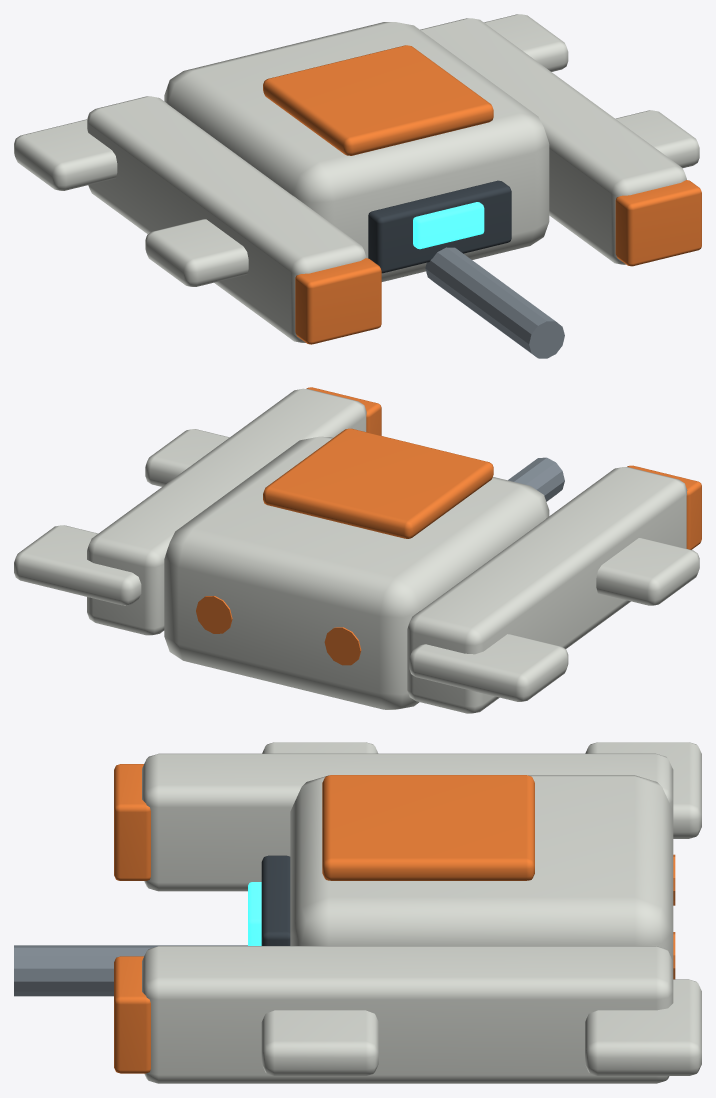
The model's file is VXDR_INTERCEPT_v001_DRONE.fbx.
3 renders of one model, top to bottom at view 1: azimuth 30°, elevation 25°; view 2: azimuth 150°, elevation 25°; view 3: azimuth 270°, elevation 25°, orthographic. The views are drawn at different scales.
Visible parts, largest first — view 1: Armored sensor shell, Interceptor pylon, Interceptor pylon.001, Top identification, Sensor recess, Interceptor barrel, Pylon nose.001, Pylon nose, Foldable stabilizer.001, Foldable stabilizer, Foldable stabilizer.003, Optical sensor (+1 smaller); view 2: Armored sensor shell, Interceptor pylon, Interceptor pylon.001, Top identification, Foldable stabilizer.001, Foldable stabilizer.003, Foldable stabilizer, Foldable stabilizer.002, Interceptor barrel, Pylon nose, Dock contact, Dock contact.001 (+1 smaller); view 3: Interceptor pylon.001, Armored sensor shell, Interceptor pylon, Top identification, Foldable stabilizer.003, Foldable stabilizer.002, Interceptor barrel, Pylon nose.001, Pylon nose, Foldable stabilizer.001, Sensor recess, Foldable stabilizer (+1 smaller).
Part boxes in pixels (<box>): Armored sensor shell: <box>164,22,549,281</box>; Interceptor pylon: <box>87,96,366,342</box>; Interceptor pylon.001: <box>420,18,686,264</box>; Top identification: <box>263,45,493,155</box>; Sensor recess: <box>368,180,511,273</box>; Interceptor barrel: <box>425,247,564,358</box>; Pylon nose.001: <box>615,180,701,266</box>; Pylon nose: <box>295,258,381,344</box>; Foldable stabilizer.001: <box>14,119,117,190</box>; Foldable stabilizer: <box>145,219,248,286</box>; Foldable stabilizer.003: <box>484,14,568,71</box>; Optical sensor: <box>413,202,484,249</box>; Armored sensor shell: <box>164,436,549,709</box>; Interceptor pylon: <box>407,467,687,713</box>; Interceptor pylon.001: <box>87,388,366,635</box>; Top identification: <box>263,428,493,538</box>; Foldable stabilizer.001: <box>409,634,568,701</box>; Foldable stabilizer.003: <box>14,525,141,605</box>; Foldable stabilizer: <box>596,538,699,605</box>; Foldable stabilizer.002: <box>145,429,229,486</box>; Interceptor barrel: <box>508,457,564,501</box>; Pylon nose: <box>627,465,701,549</box>; Dock contact: <box>324,627,361,665</box>; Dock contact.001: <box>196,596,232,633</box>; Interceptor pylon.001: <box>142,946,673,1083</box>; Armored sensor shell: <box>290,775,673,961</box>; Interceptor pylon: <box>142,753,673,891</box>; Top identification: <box>322,775,534,880</box>; Foldable stabilizer.003: <box>585,979,701,1075</box>; Foldable stabilizer.002: <box>261,1010,378,1075</box>; Interceptor barrel: <box>14,945,247,996</box>; Pylon nose.001: <box>114,956,150,1073</box>; Pylon nose: <box>114,764,150,880</box>; Foldable stabilizer.001: <box>585,742,701,838</box>; Sensor recess: <box>261,855,290,945</box>; Foldable stabilizer: <box>262,742,378,753</box>.
Size of the model in its own units: 34.4 by 9.55 by 32.35.
